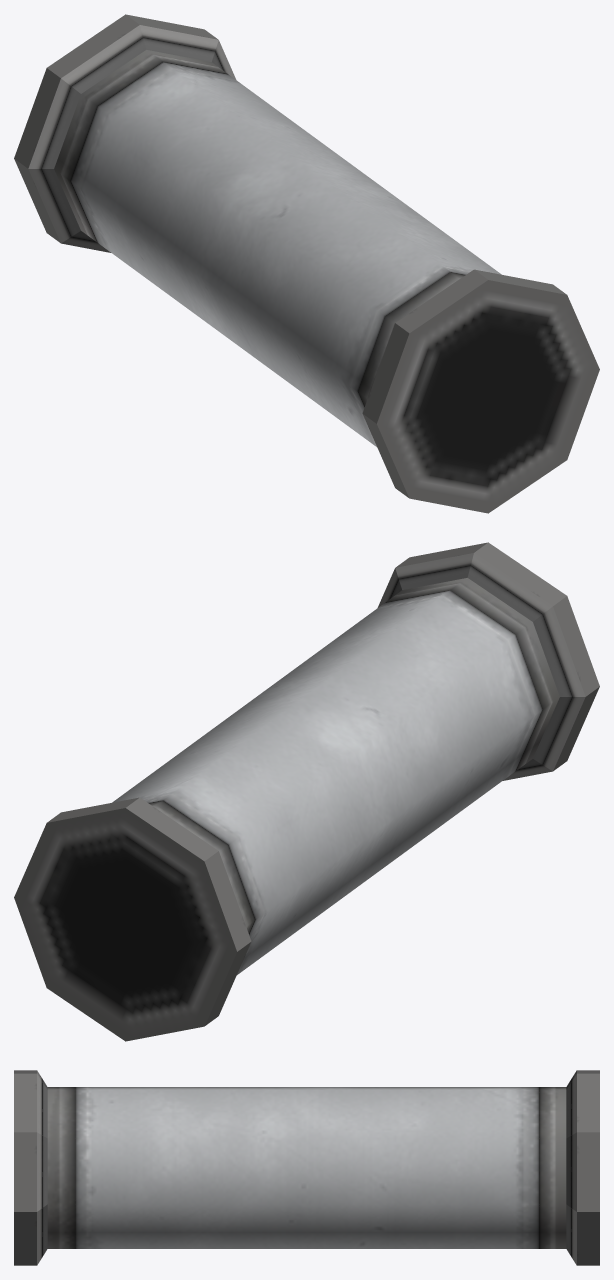
File: pipe_I.glb
3 views of the same model, one above another, from view 1: azimuth 30°, elevation 25°; view 2: azimuth 150°, elevation 25°; view 3: azimuth 270°, elevation 25° (orthographic). The views are drawn at different scales.
Parts seen in each view (by area): view 1: zhuti.II.002; view 2: zhuti.II.002; view 3: zhuti.II.002.
Boxes of the visible parts, bbox=[...] form: zhuti.II.002: bbox=[14, 14, 599, 513]; zhuti.II.002: bbox=[14, 542, 599, 1041]; zhuti.II.002: bbox=[14, 1070, 599, 1265].
Size of the model in its own units: 3.55 by 3.55 by 10.
Materials: 1 (1 with a texture image).
